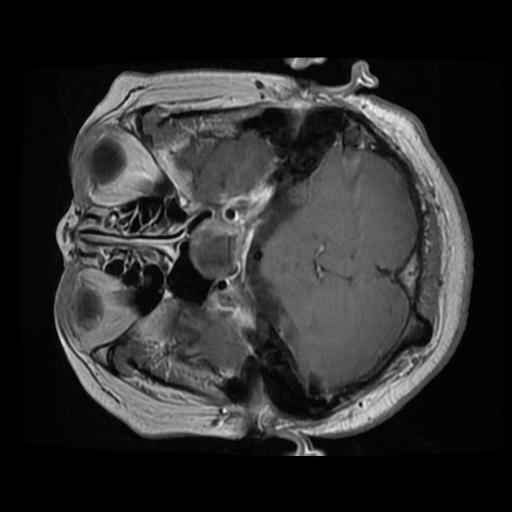pituitary tumour: (190, 220, 238, 280)
